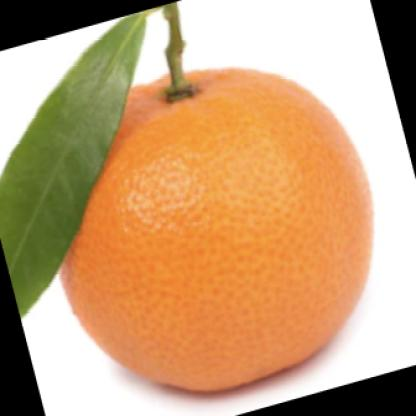fresh: (61, 67, 377, 395)
